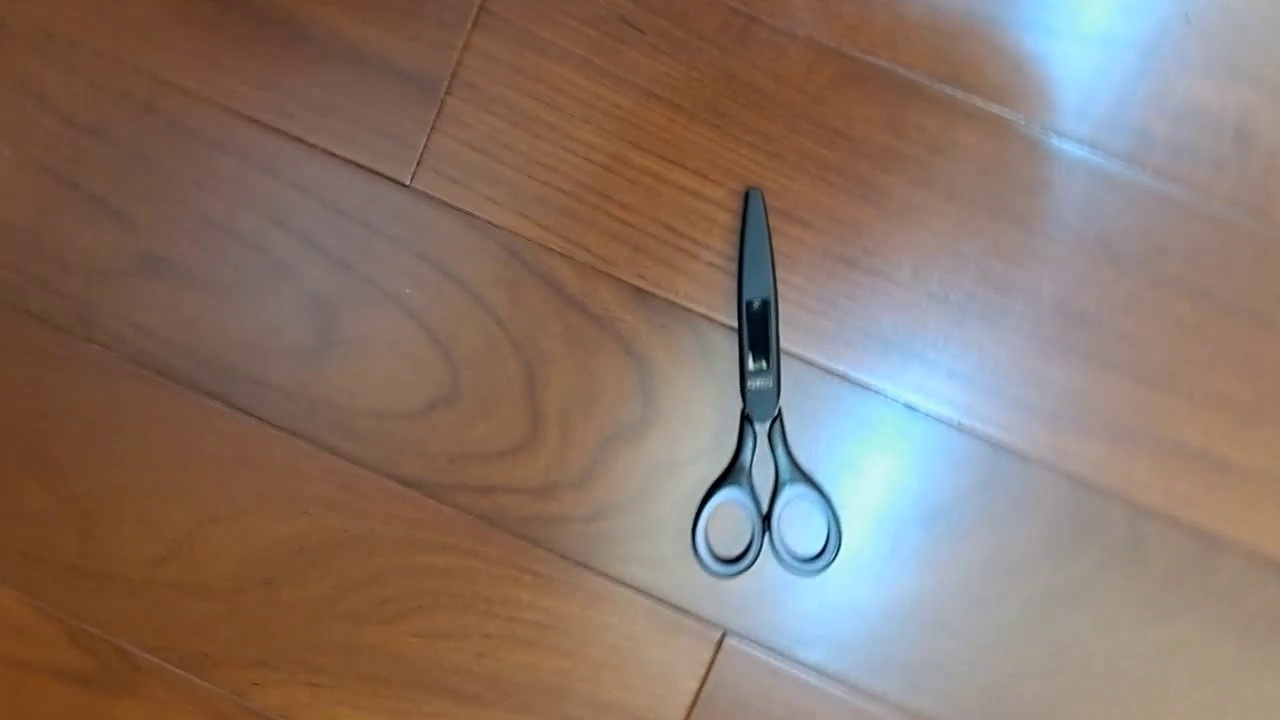scissors: (690, 186, 842, 579)
